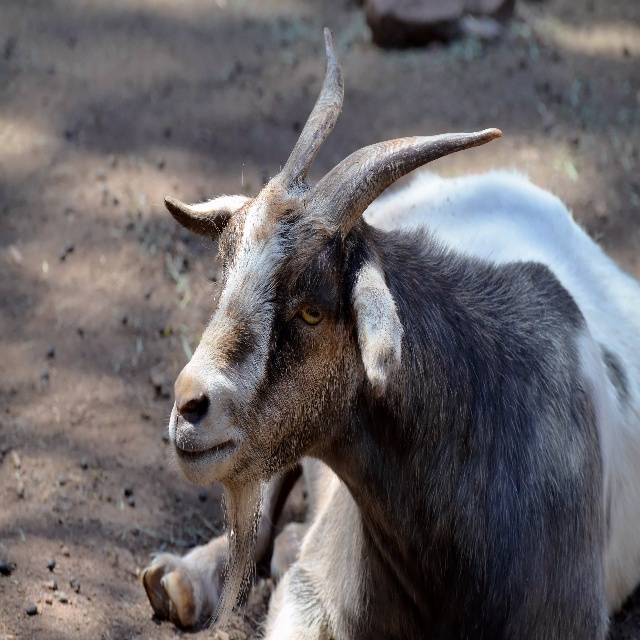Goat: (142, 27, 640, 640)
